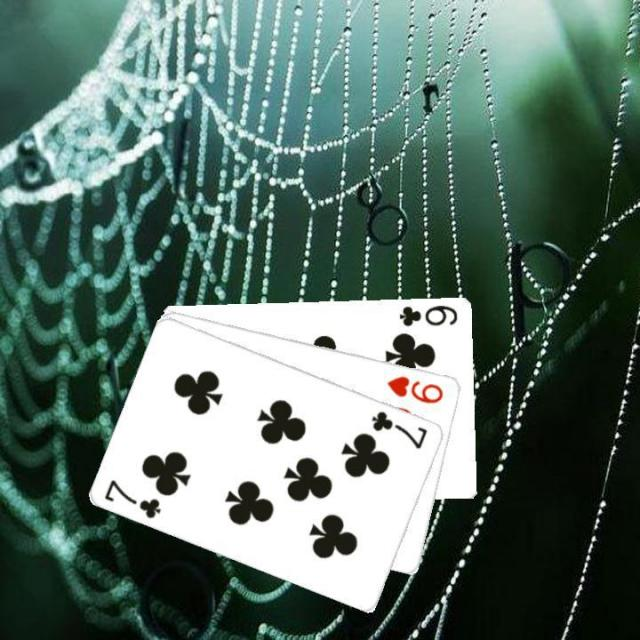6C: (396, 300, 460, 328)
7C: (368, 406, 430, 451), (100, 476, 163, 520)
9H: (383, 372, 445, 406)
